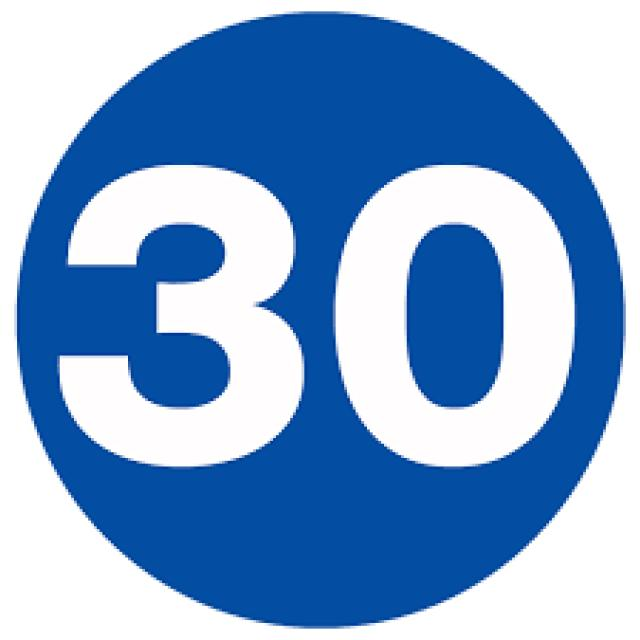Speed limit 30: (13, 7, 630, 630)
